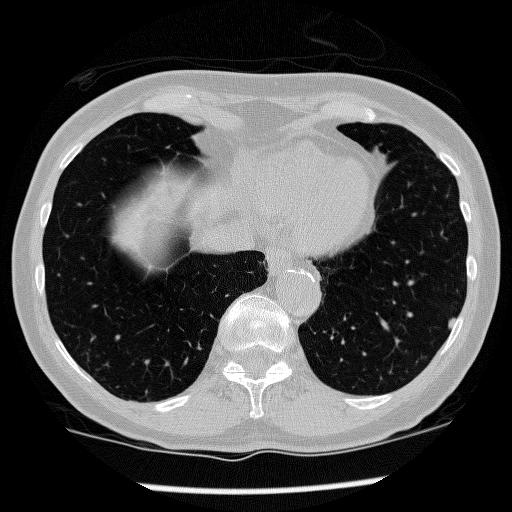nodule: (444, 316, 458, 330)
